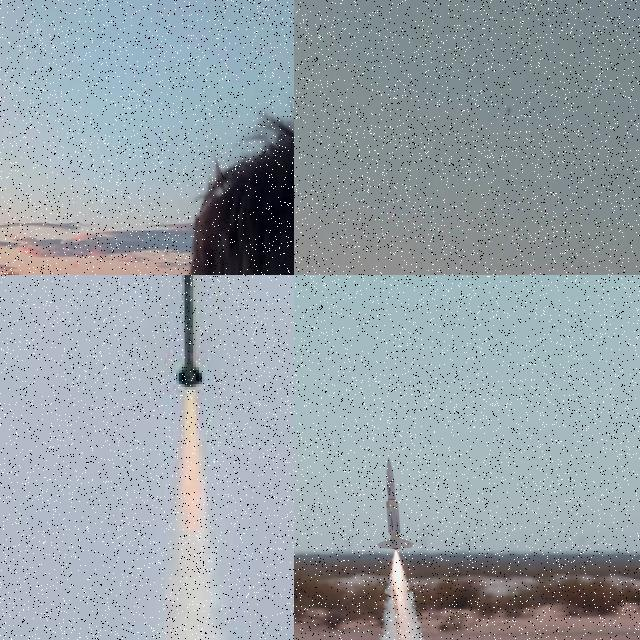Rocket: (170, 275, 209, 393), (376, 456, 417, 550)
